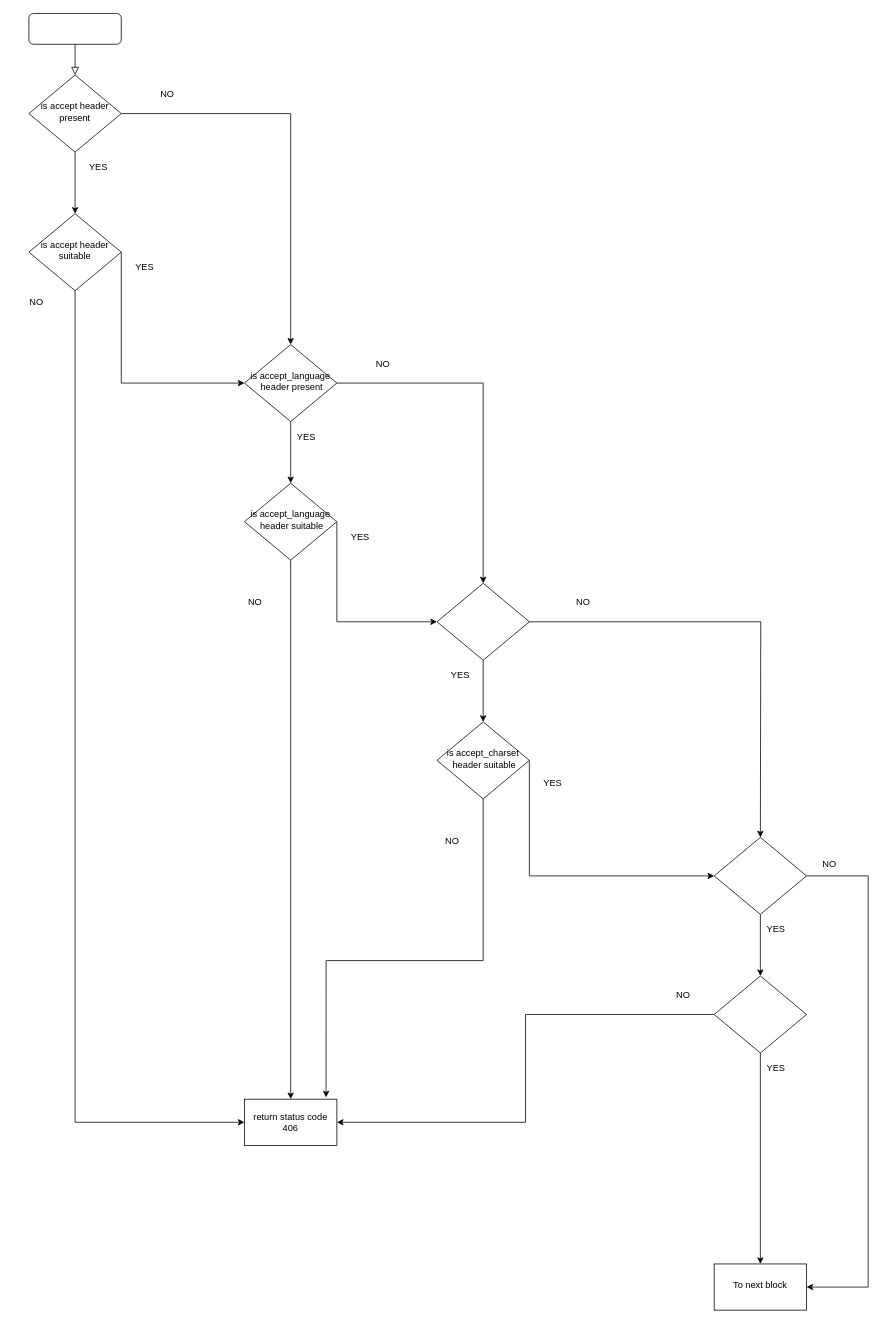
This 888x1324 diagram has some shape labels left out. The shapes that lost their labels are listed below. From the top down, each one's centre as x and y in pixels, then its label:
At [74,28]: "from previous block".
At [482,621]: "is accept_charset header present".
At [760,875]: "is accept_encoding header present".
At [760,1014]: "is accept_encoding header suitable".
